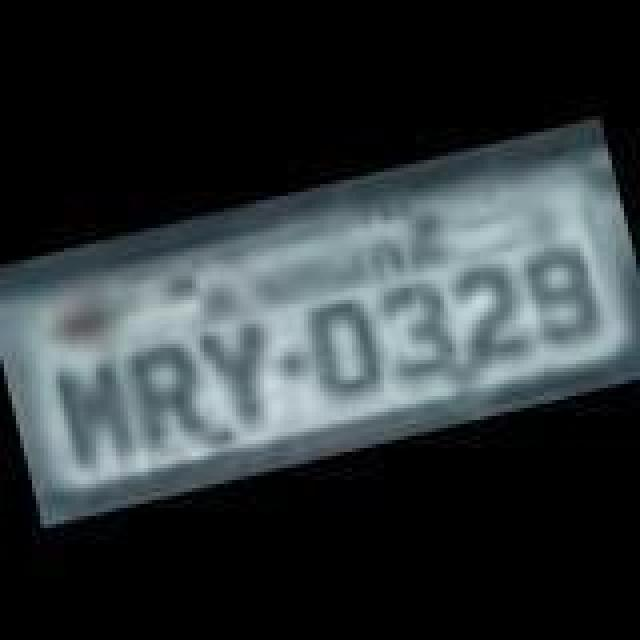2: (434, 256, 542, 376)
3: (368, 274, 464, 390)
9: (512, 232, 608, 352)
M: (50, 354, 142, 478)
O: (300, 294, 388, 402)
R: (126, 338, 210, 454)
Y: (194, 314, 286, 430)
